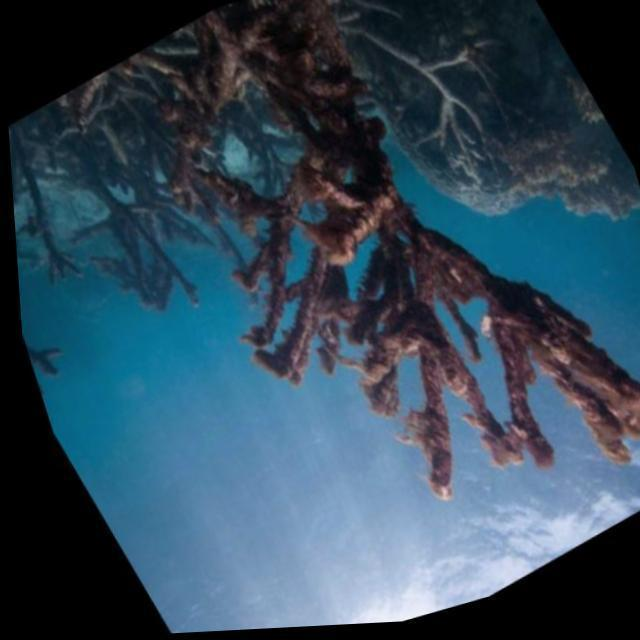Dead Coral: (173, 0, 640, 523)
